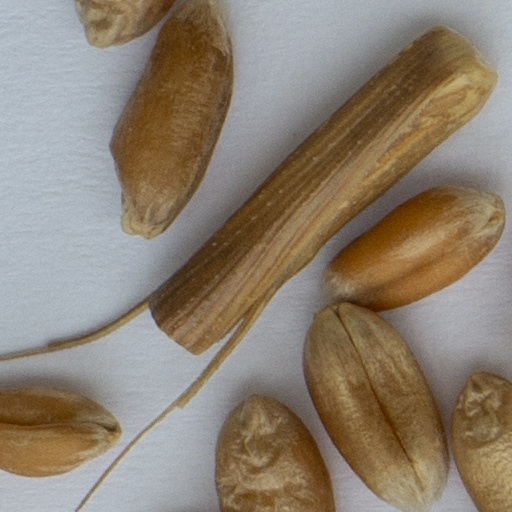Peel-poly: (0, 23, 496, 511)
